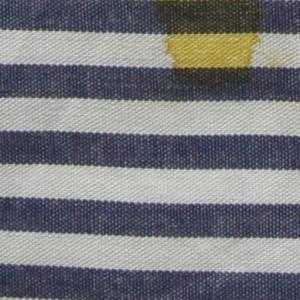Oil Stain: (152, 1, 291, 98)
